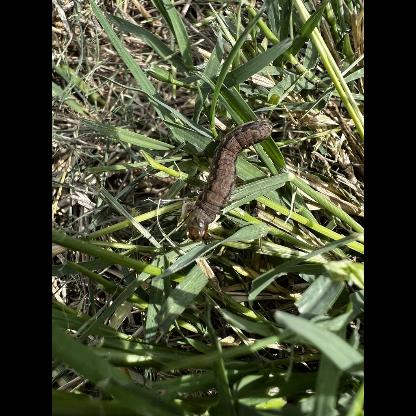Fall Armyworm Larvae: (176, 116, 274, 248)
